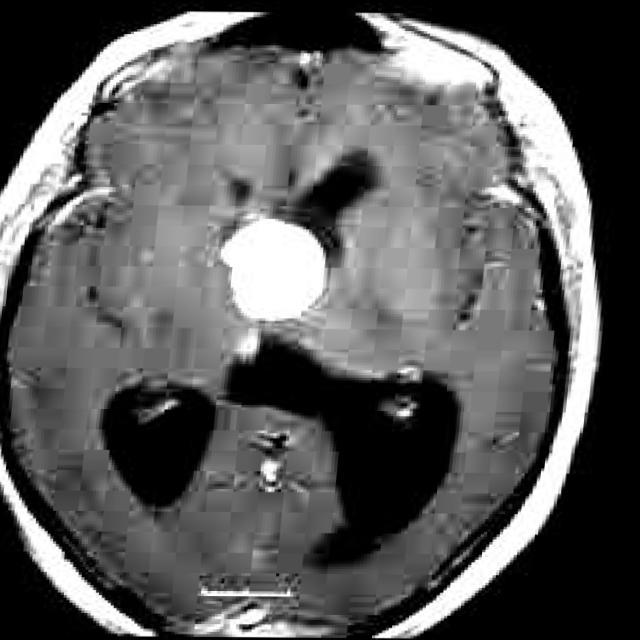Tumor: (227, 219, 331, 320)
